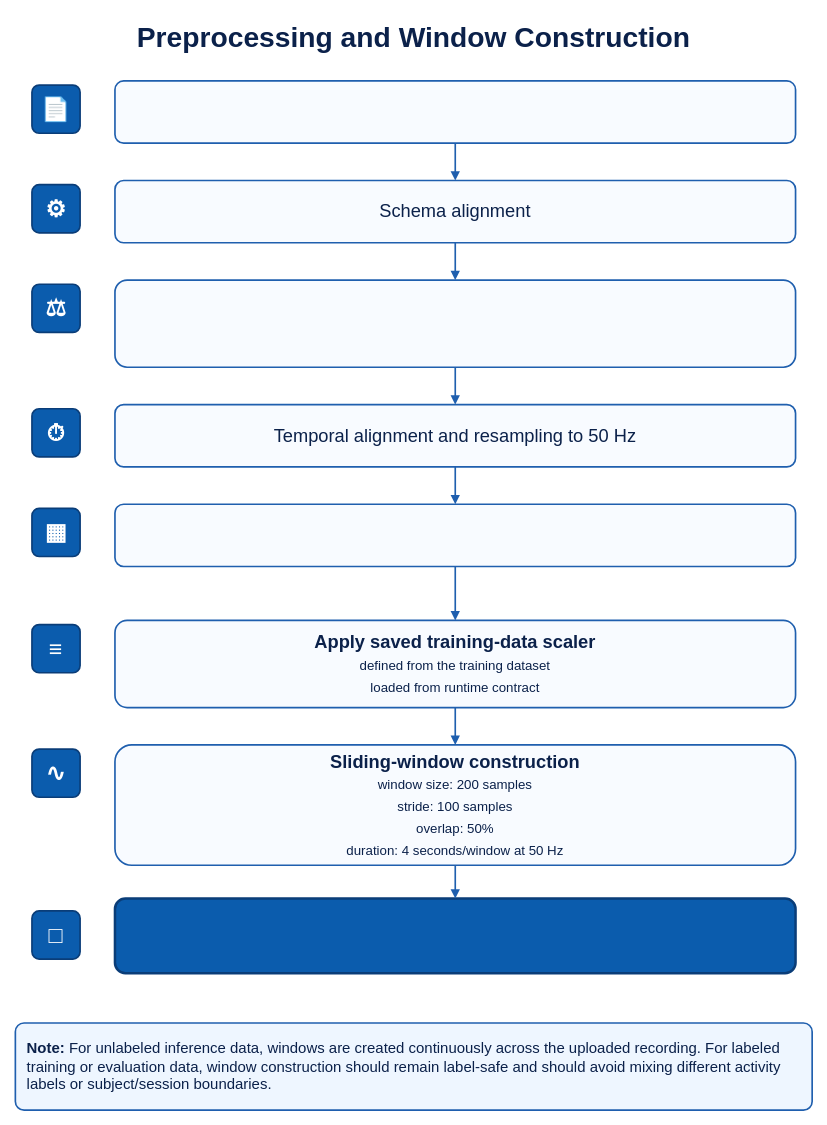
Some shapes in this 827 by 1125 pixel diagram are drawn without their labels. The shapes that lost their labels are listed below. From the top down, each one's box as (x1, y1, x2, y2) in pixels, then its label:
(114, 80, 796, 144): Raw accelerometer CSV + raw gyroscope CSV
(114, 279, 796, 368): Unit harmonization accelerometer: milliG → m/s² gyroscope: °/s
(114, 503, 796, 567): Canonical channel ordering Ax, Ay, Az, Gx, Gy, Gz
(113, 897, 796, 974): Model-ready tensor (N, 200, 6)
